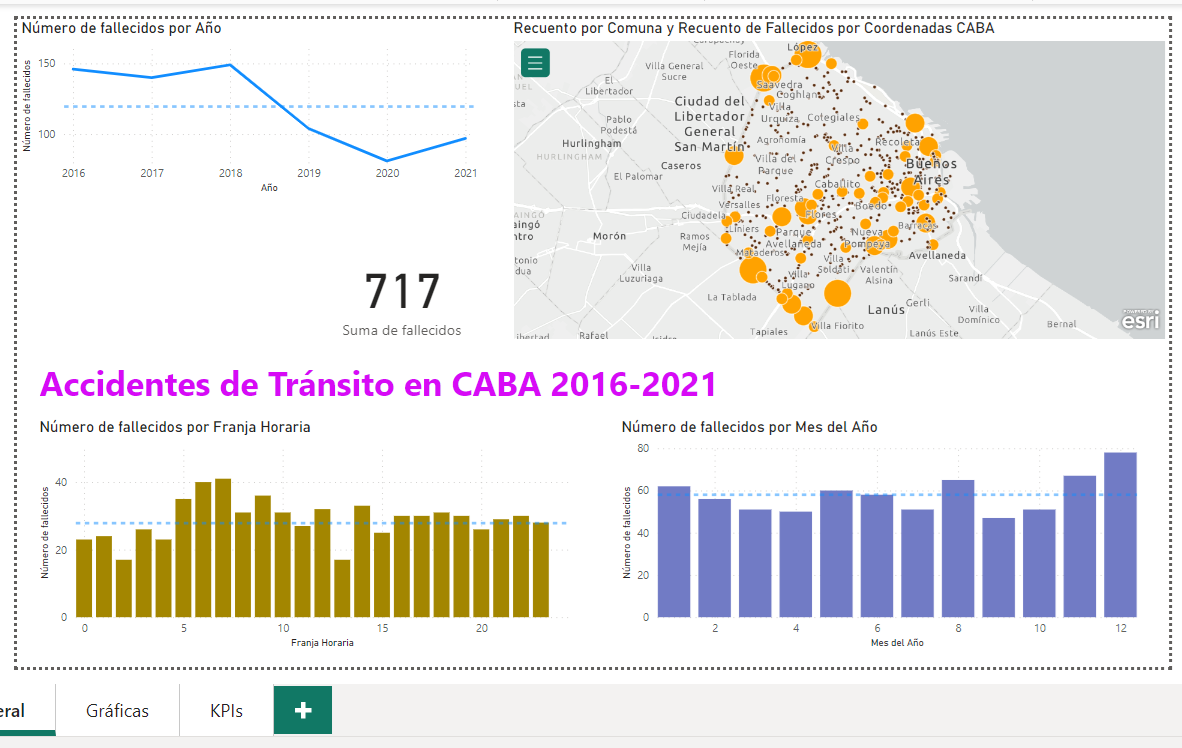

The page's visual inventory and layout, read from the dashboard file:
{"tool":"powerbi","page":{"name":"General","canvas":[1280,720],"ordinal":0},"visuals":[{"type":"textbox","box":[20,373.3,775,70],"z":0},{"type":"esriVisual","fields":{"Color":["CountNonNull(ID(HECHOS).N_VICTIMAS)"],"Location":["ID(HECHOS).Coordenadas CABA"],"Size":["CountNonNull(ID(HECHOS).COMUNA)"]},"box":[546,0,734,360],"z":1000},{"type":"lineChart","fields":{"Category":["ID(HECHOS).FECHA.Variación.Jerarquía de fechas.Año"],"Y":["Sum(ID(HECHOS).N_VICTIMAS)"]},"box":[0,0,516,198],"z":2000},{"type":"clusteredColumnChart","fields":{"Y":["CountNonNull(ID(HECHOS).N_VICTIMAS)"],"Category":["ID(HECHOS).HH"]},"box":[20,444,598,260],"z":3000},{"type":"clusteredColumnChart","fields":{"Y":["CountNonNull(ID(HECHOS).N_VICTIMAS)"],"Category":["ID(HECHOS).MM"]},"box":[666,444,582,260],"z":4000},{"type":"card","fields":{"Values":["Sum(ID(HECHOS).N_VICTIMAS)"]},"box":[308,252,238,108],"z":5000}]}

Visuals, with their boxes on the page's 1280x720 design canvas (x1, y1, x2, y2). These are canvas units, not pixel positions in the 1182x748 screenshot, which may show the page scaled, cropped or inside an application window:
textbox: x1=20 y1=373 x2=795 y2=443
esriVisual - CountNonNull(ID(HECHOS).N_VICTIMAS) x ID(HECHOS).Coordenadas CABA: x1=546 y1=0 x2=1280 y2=360
lineChart - ID(HECHOS).FECHA.Variación.Jerarquía de fechas.Año x Sum(ID(HECHOS).N_VICTIMAS): x1=0 y1=0 x2=516 y2=198
clusteredColumnChart - CountNonNull(ID(HECHOS).N_VICTIMAS) x ID(HECHOS).HH: x1=20 y1=444 x2=618 y2=704
clusteredColumnChart - CountNonNull(ID(HECHOS).N_VICTIMAS) x ID(HECHOS).MM: x1=666 y1=444 x2=1248 y2=704
card - Sum(ID(HECHOS).N_VICTIMAS): x1=308 y1=252 x2=546 y2=360
